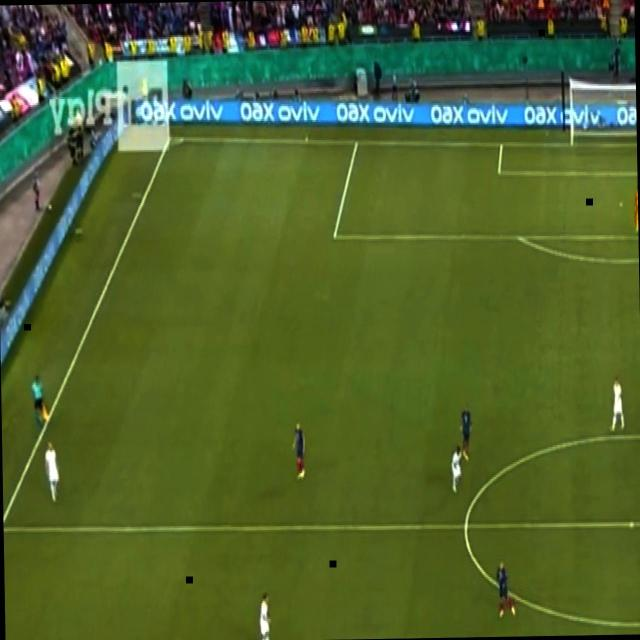ball: (47, 200, 53, 211)
player-white: (41, 440, 61, 504), (30, 372, 51, 432), (496, 560, 516, 620), (290, 420, 308, 482), (610, 376, 626, 433), (459, 404, 473, 464), (260, 592, 274, 640), (451, 445, 464, 495), (635, 184, 639, 236)
